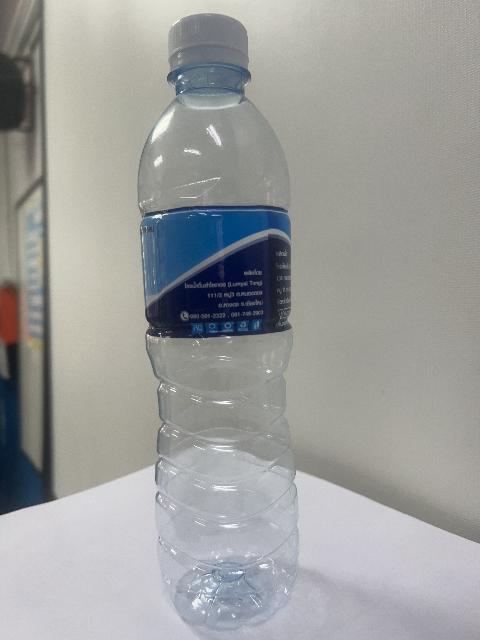bottle: (139, 15, 298, 629)
